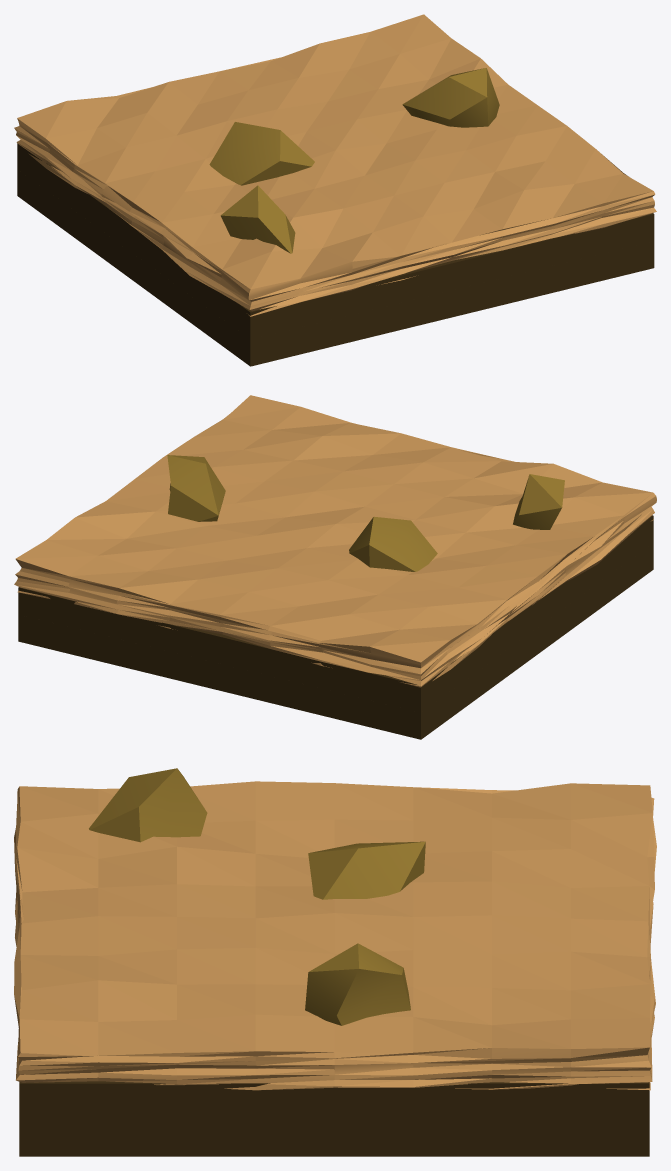
File: FLOOR6.fbx
The picture shows the model from 3 angles, top to bottom: view 1: azimuth 30°, elevation 25°; view 2: azimuth 150°, elevation 25°; view 3: azimuth 270°, elevation 25°; orthographic projection. The views are drawn at different scales.
Visible parts, largest first — view 1: Cube_2, Cube, Cube_1, Platonic_2, Platonic, Platonic_1; view 2: Cube_2, Cube, Cube_1, Platonic_2, Platonic, Platonic_1; view 3: Cube_2, Cube, Cube_1, Platonic, Platonic_1, Platonic_2.
Boxes of the visible parts, x1,y1,x2,y2 form: Cube_2: (14,14,656,316); Cube: (17,169,654,366); Cube_1: (17,143,654,339); Platonic_2: (209,122,314,185); Platonic: (402,68,499,127); Platonic_1: (220,185,295,253); Cube_2: (14,395,656,687); Cube: (18,543,653,739); Cube_1: (18,515,653,712); Platonic_2: (349,516,437,571); Platonic: (167,455,225,521); Platonic_1: (513,474,564,529); Cube_2: (14,781,656,1090); Cube: (19,1120,649,1156); Cube_1: (19,1081,649,1120); Platonic: (305,943,410,1025); Platonic_1: (89,768,207,842); Platonic_2: (308,841,425,899).
Size of the model in its own units: 410 by 116 by 408.
